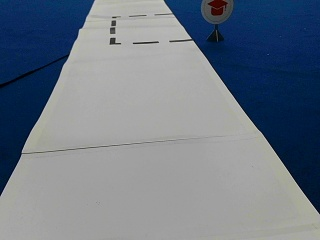school: (200, 0, 233, 23)
